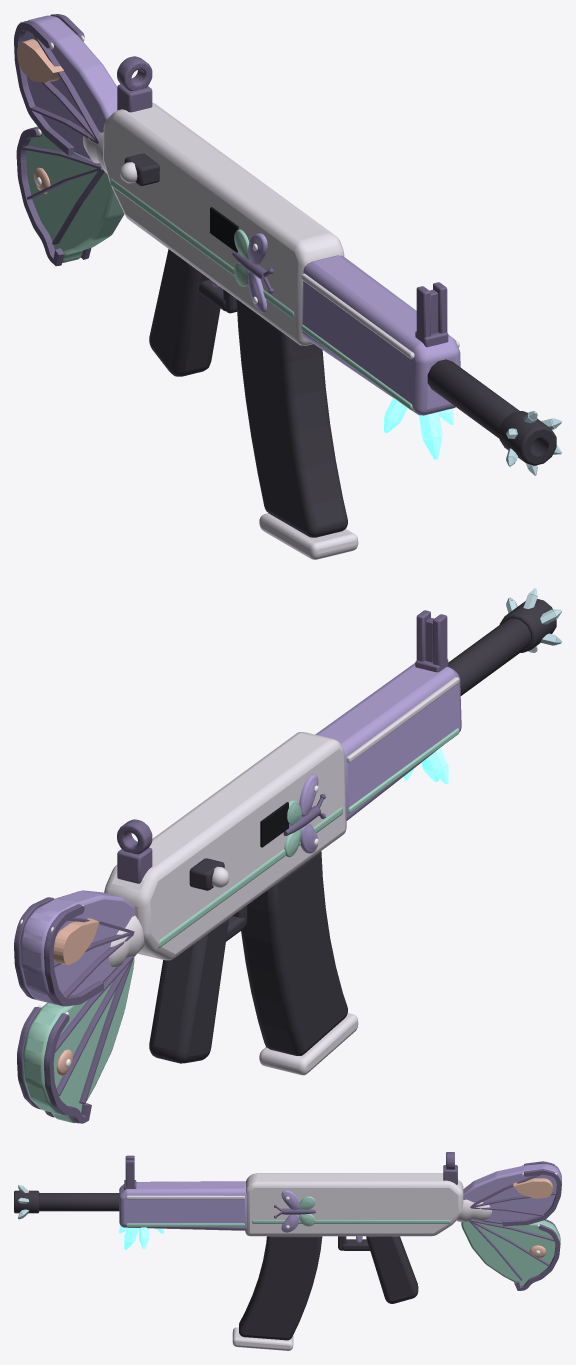
Rendered from w_ar@ar_cute_c.glb.
3 renders of one model, top to bottom at view 1: azimuth 30°, elevation 25°; view 2: azimuth 150°, elevation 25°; view 3: azimuth 270°, elevation 25°, orthographic. The views are drawn at different scales.
Visible parts, largest first — view 1: body_wzA__pearl__pe3dfe8, mag_wzB__dark__p3d3a44, guard_wzA__lilac__pad9fd3, grip_wzB__dark__p3d3a44, stock_wzN__vein__p74688c, stock_wzA__mint__pa0d2c1, stock_wzA__lilac__pad9fd3, barrel_wzB__dark__p3d3a44, sight_wzN__vein__p74688c, mag_wzN__pearl__pe3dfe8, body_wzN__mint__pa0d2c1, stock_wzN__peach__pe8bba8 (+7 smaller); view 2: body_wzA__pearl__pe3dfe8, mag_wzB__dark__p3d3a44, guard_wzA__lilac__pad9fd3, stock_wzN__vein__p74688c, grip_wzB__dark__p3d3a44, stock_wzA__lilac__pad9fd3, stock_wzA__mint__pa0d2c1, barrel_wzB__dark__p3d3a44, sight_wzN__vein__p74688c, mag_wzN__pearl__pe3dfe8, body_wzN__mint__pa0d2c1, stock_wzN__peach__pe8bba8 (+8 smaller); view 3: body_wzA__pearl__pe3dfe8, mag_wzB__dark__p3d3a44, guard_wzA__lilac__pad9fd3, stock_wzA__mint__pa0d2c1, stock_wzA__lilac__pad9fd3, stock_wzN__vein__p74688c, grip_wzB__dark__p3d3a44, barrel_wzB__dark__p3d3a44, body_wzN__mint__pa0d2c1, stock_wzN__peach__pe8bba8, mag_wzN__pearl__pe3dfe8, sight_wzN__vein__p74688c (+5 smaller).
Boxes of the visible parts, x1,y1,x2,y2 form: body_wzA__pearl__pe3dfe8: (103,103,344,345); mag_wzB__dark__p3d3a44: (236,299,347,537); guard_wzA__lilac__pad9fd3: (301,255,460,415); grip_wzB__dark__p3d3a44: (149,249,237,376); stock_wzN__vein__p74688c: (14,14,104,266); stock_wzA__mint__pa0d2c1: (26,126,124,262); stock_wzA__lilac__pad9fd3: (23,15,117,163); barrel_wzB__dark__p3d3a44: (427,359,556,465); sight_wzN__vein__p74688c: (117,56,448,347); mag_wzN__pearl__pe3dfe8: (259,513,358,559); body_wzN__mint__pa0d2c1: (110,178,294,319); stock_wzN__peach__pe8bba8: (17,39,63,193); body_wzA__pearl__pe3dfe8: (104,732,346,960); mag_wzB__dark__p3d3a44: (241,851,347,1055); guard_wzA__lilac__pad9fd3: (315,663,461,820); stock_wzN__vein__p74688c: (14,897,134,1123); grip_wzB__dark__p3d3a44: (149,905,247,1063); stock_wzA__lilac__pad9fd3: (20,890,135,1004); stock_wzA__mint__pa0d2c1: (23,957,134,1123); barrel_wzB__dark__p3d3a44: (448,599,556,695); sight_wzN__vein__p74688c: (117,610,448,883); mag_wzN__pearl__pe3dfe8: (259,1013,358,1075); body_wzN__mint__pa0d2c1: (158,800,342,947); stock_wzN__peach__pe8bba8: (53,918,99,1075); body_wzA__pearl__pe3dfe8: (245,1173,463,1236); mag_wzB__dark__p3d3a44: (239,1236,322,1340); guard_wzA__lilac__pad9fd3: (119,1181,246,1230); stock_wzA__mint__pa0d2c1: (461,1220,560,1286); stock_wzA__lilac__pad9fd3: (463,1163,561,1224); stock_wzN__vein__p74688c: (469,1161,561,1290); grip_wzB__dark__p3d3a44: (338,1236,418,1303); barrel_wzB__dark__p3d3a44: (14,1190,119,1213); body_wzN__mint__pa0d2c1: (252,1196,450,1226); stock_wzN__peach__pe8bba8: (513,1178,552,1257); mag_wzN__pearl__pe3dfe8: (232,1327,293,1350); sight_wzN__vein__p74688c: (124,1152,457,1189).
Bounding box in the file's own units: 0.1177 × 0.4649 × 1.2.
